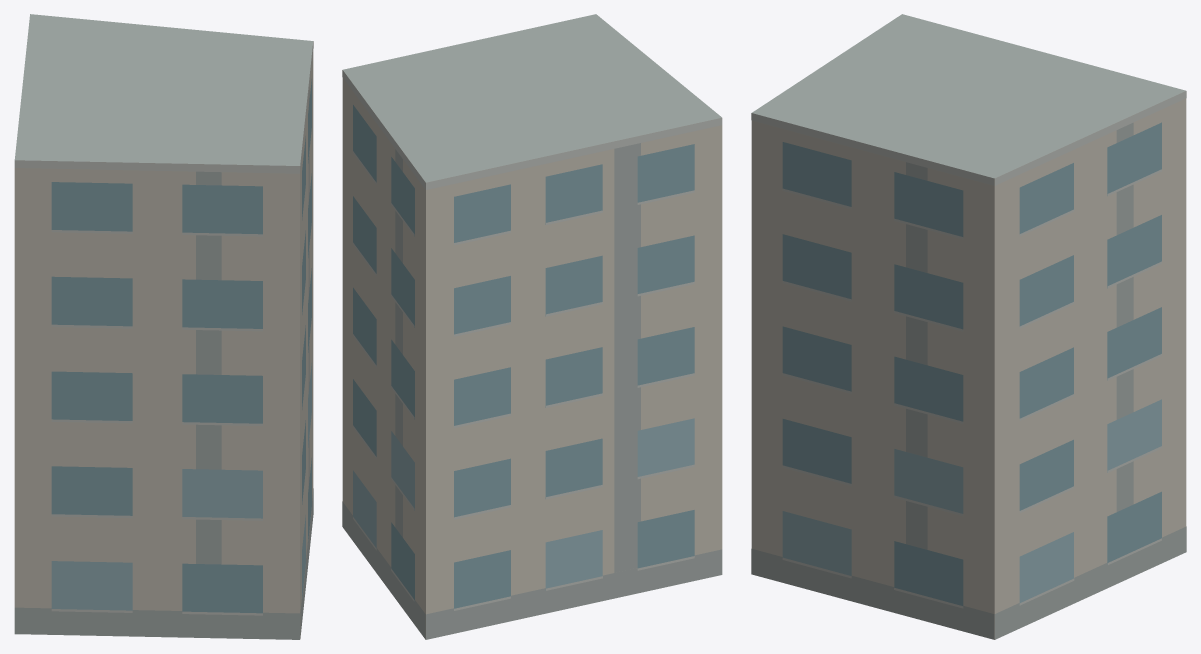
File: survey-upis-32787852.glb
3 renders of one model, left to right at view 1: azimuth 30°, elevation 25°; view 2: azimuth 150°, elevation 25°; view 3: azimuth 270°, elevation 25°, orthographic. The views are drawn at different scales.
Visible parts, largest first — view 1: survey-upis-32787852.tmp; view 2: survey-upis-32787852.tmp; view 3: survey-upis-32787852.tmp.
Boxes of the visible parts, x1,y1,x2,y2 form: survey-upis-32787852.tmp: (14, 14, 313, 639); survey-upis-32787852.tmp: (342, 14, 722, 639); survey-upis-32787852.tmp: (751, 14, 1186, 639).
Bounding box in the file's own units: 11.48 × 15 × 12.82.
